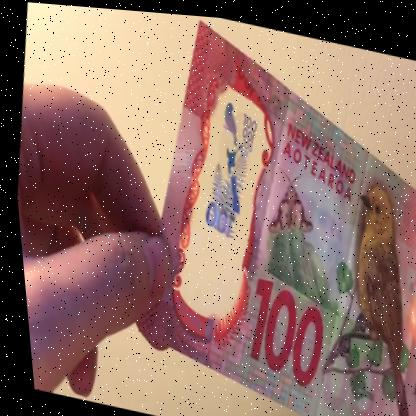100B: (185, 90, 271, 262)
